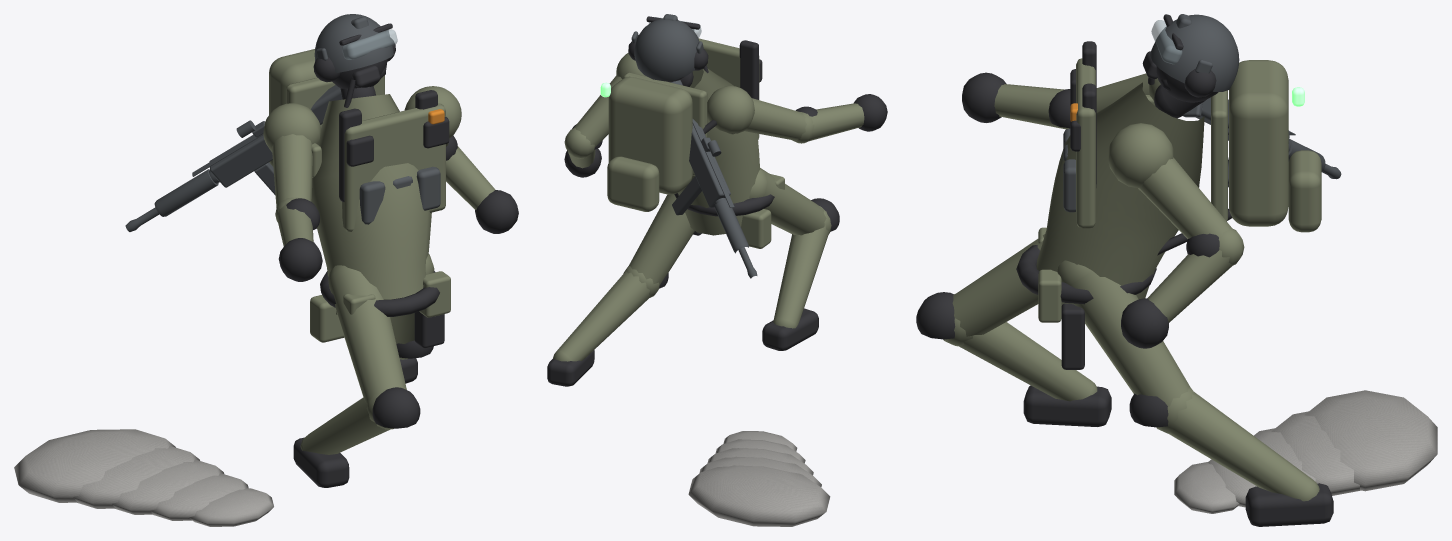
File: battle-royale-town-and-airfield-operator-landing-slide-2236dea3__28248.glb
3 views of the same model, side by side, from view 1: azimuth 30°, elevation 25°; view 2: azimuth 150°, elevation 25°; view 3: azimuth 270°, elevation 25° (orthographic). The views are drawn at different scales.
Parts seen in each view (by area): view 1: operator-landing-slide; view 2: operator-landing-slide; view 3: operator-landing-slide.
Boxes of the visible parts, x1,y1,x2,y2 form: operator-landing-slide: (14, 14, 518, 526); operator-landing-slide: (547, 14, 887, 526); operator-landing-slide: (916, 14, 1437, 526).
Bounding box in the file's own units: 1.45 × 1.67 × 1.43.
7 materials, 1 textured.
